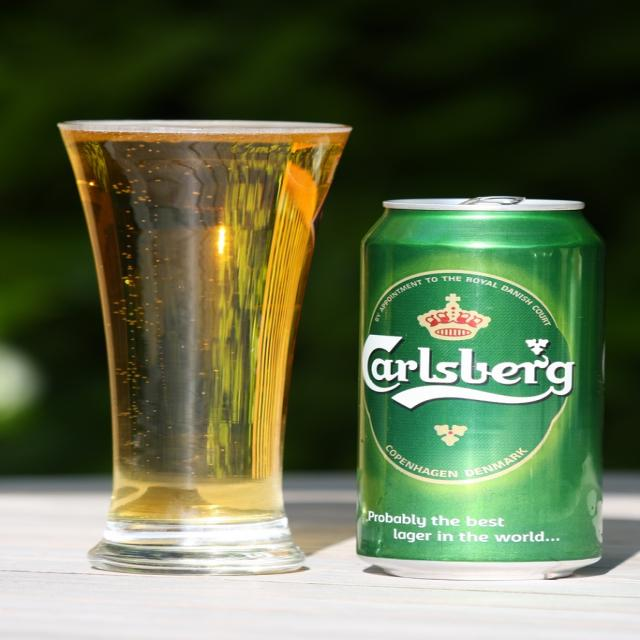carlsberg: (359, 266, 578, 488)
